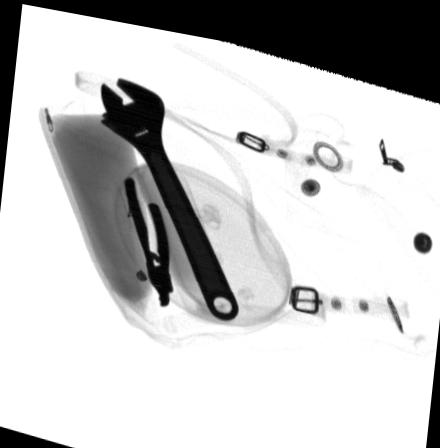Pliers: (123, 173, 175, 300)
Wrench: (99, 74, 241, 313)
